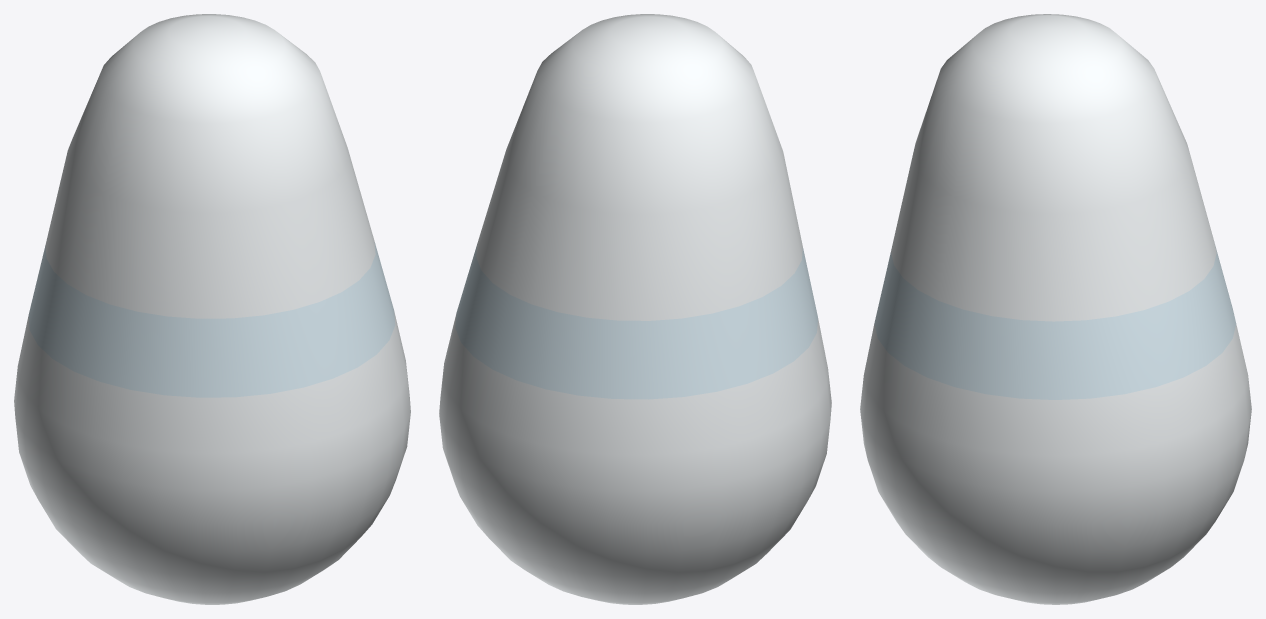
The model's file is egg.glb.
The picture shows the model from 3 angles, left to right: view 1: azimuth 30°, elevation 25°; view 2: azimuth 150°, elevation 25°; view 3: azimuth 270°, elevation 25°; orthographic projection.
Visible parts, largest first — view 1: Sphere; view 2: Sphere; view 3: Sphere.
Boxes of the visible parts, <box> form: Sphere: <box>14,14,410,604</box>; Sphere: <box>439,14,831,604</box>; Sphere: <box>860,14,1251,604</box>.
Size of the model in its own units: 2 by 3.12 by 2.
Materials: 1 (1 with a texture image).
